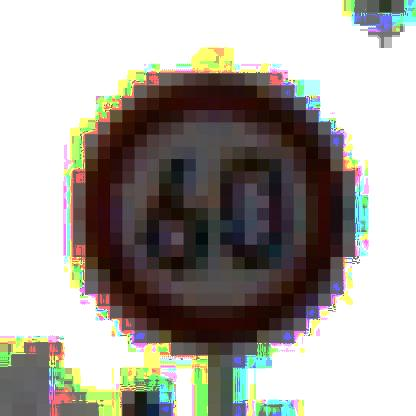Speed Limit -60-: (73, 70, 362, 358)
